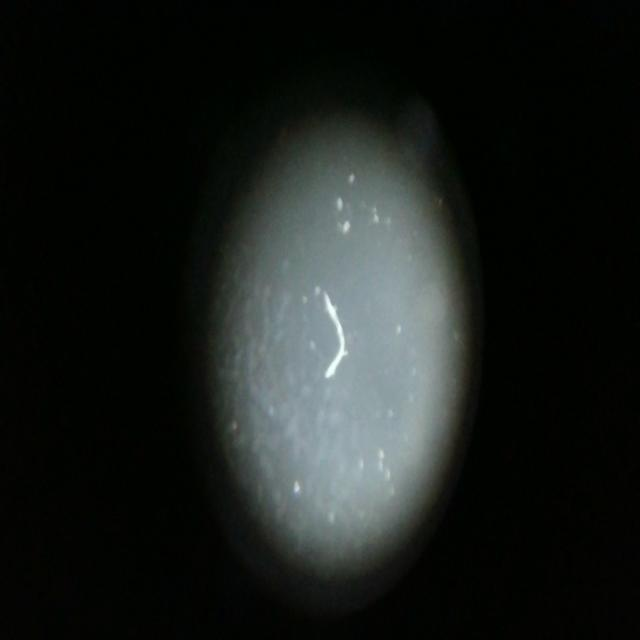psudo-nitzschia: (318, 290, 351, 398)
